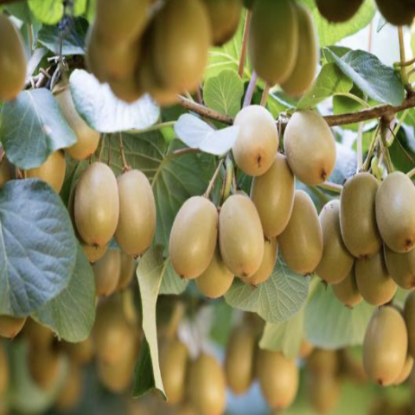kiwi: (167, 174, 224, 289), (335, 163, 393, 276), (106, 161, 163, 259), (283, 105, 341, 194), (209, 185, 265, 276), (361, 298, 411, 391), (73, 156, 119, 256)
